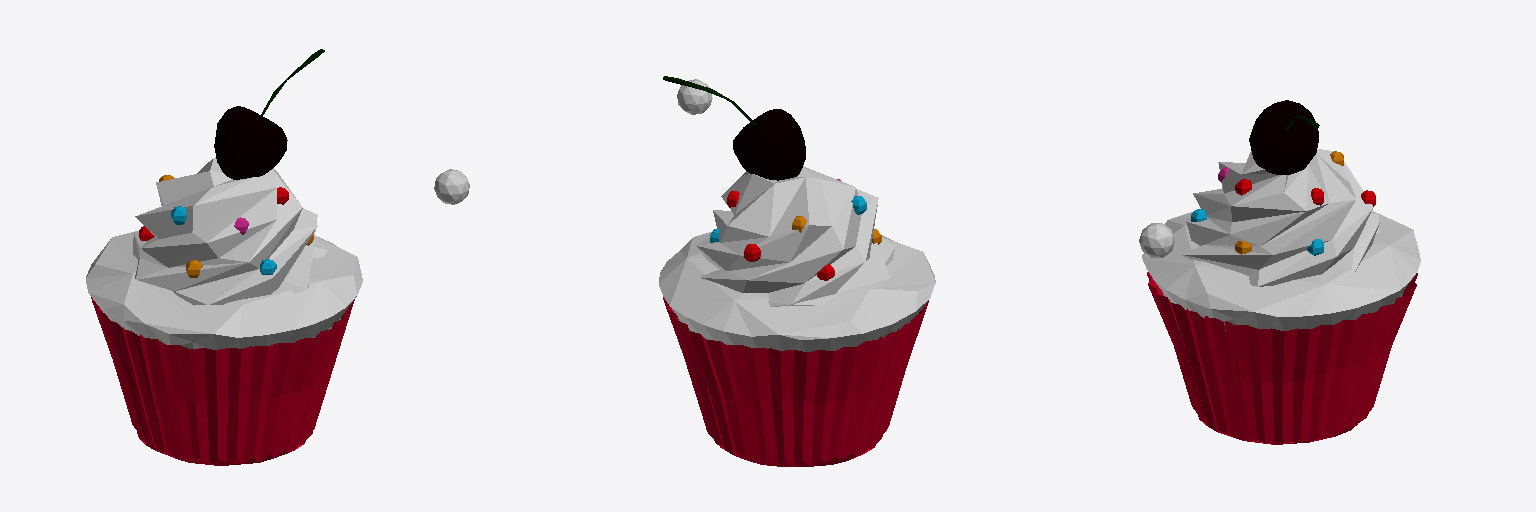
File: 3_cupcake.obj
3 renders of one model, left to right at view 1: azimuth 30°, elevation 25°; view 2: azimuth 150°, elevation 25°; view 3: azimuth 270°, elevation 25°, orthographic.
Parts seen in each view (by area): view 1: Circle.003, Cylinder.001_Cylinder.000, Circle.002_Circle.000, Sphere.001, Icosphere; view 2: Circle.003, Cylinder.001_Cylinder.000, Circle.002_Circle.000, Sphere.001, Icosphere; view 3: Circle.003, Cylinder.001_Cylinder.000, Circle.002_Circle.000, Sphere.001, Icosphere.
Part boxes in pixels (bbox=[...]): Circle.003: bbox=[91, 297, 354, 465]; Cylinder.001_Cylinder.000: bbox=[133, 157, 327, 305]; Circle.002_Circle.000: bbox=[86, 231, 362, 349]; Sphere.001: bbox=[214, 49, 324, 179]; Icosphere: bbox=[434, 169, 469, 204]; Circle.003: bbox=[663, 297, 928, 466]; Cylinder.001_Cylinder.000: bbox=[696, 166, 894, 306]; Circle.002_Circle.000: bbox=[659, 231, 935, 351]; Sphere.001: bbox=[663, 76, 805, 180]; Icosphere: bbox=[677, 79, 712, 114]; Circle.003: bbox=[1147, 272, 1417, 444]; Cylinder.001_Cylinder.000: bbox=[1181, 149, 1379, 286]; Circle.002_Circle.000: bbox=[1142, 211, 1420, 330]; Sphere.001: bbox=[1249, 100, 1319, 174]; Icosphere: bbox=[1139, 223, 1174, 257].
Size of the model in its own units: 4.23 by 4.64 by 3.45.